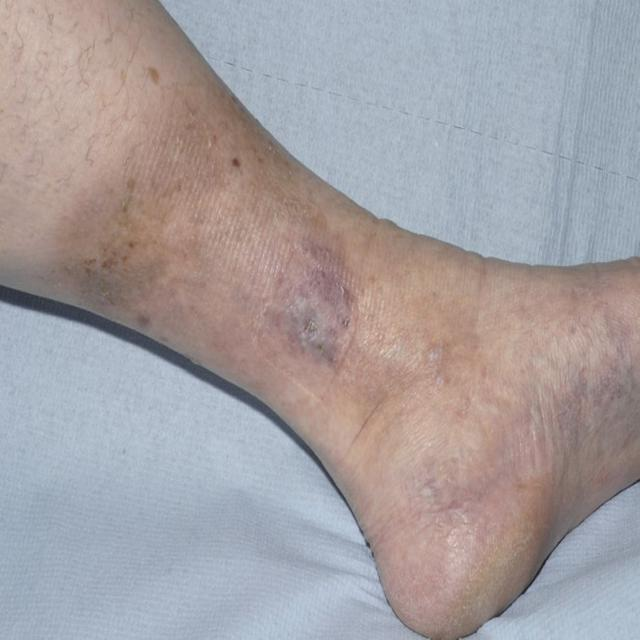wound: (281, 240, 356, 370)
